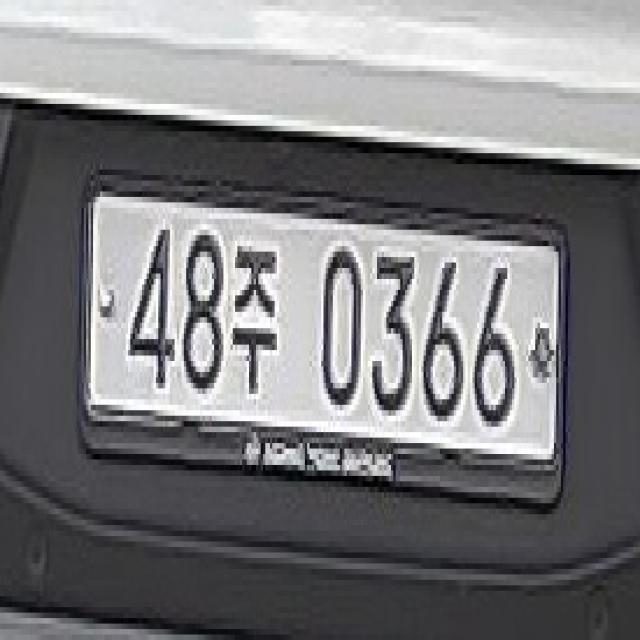0: (314, 234, 364, 418)
3: (370, 241, 418, 417)
4: (124, 218, 177, 408)
6: (470, 256, 520, 430), (422, 252, 468, 426)
8: (180, 225, 224, 408)
ju: (229, 242, 281, 409)
license_plate: (75, 148, 580, 542)
